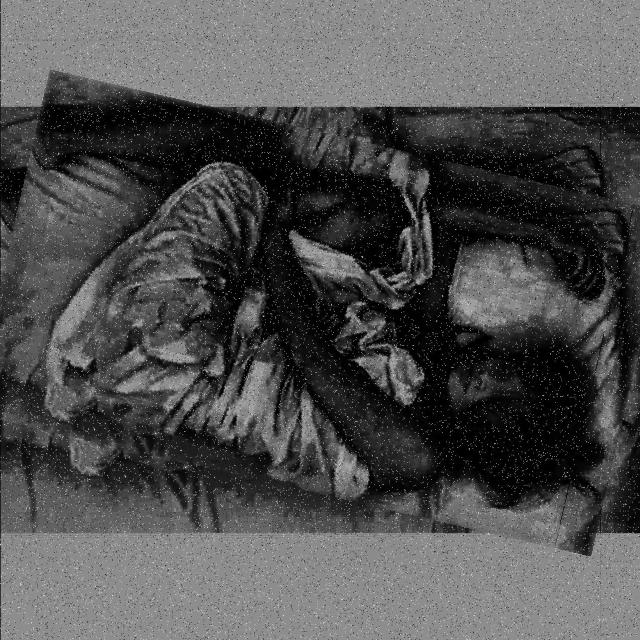Not_Supine: (31, 106, 609, 500)
